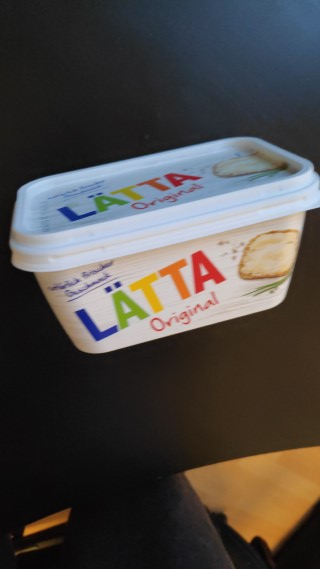laetta: (8, 135, 320, 354)
